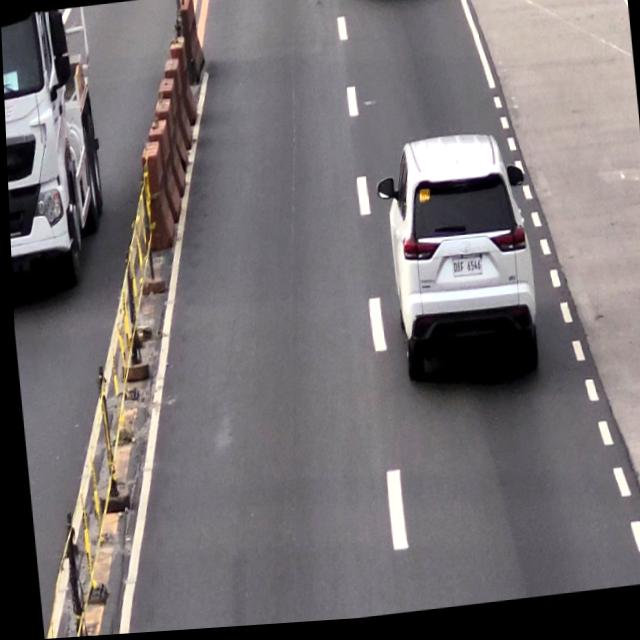Car: (382, 139, 534, 389)
License-Plate: (447, 259, 481, 287)
